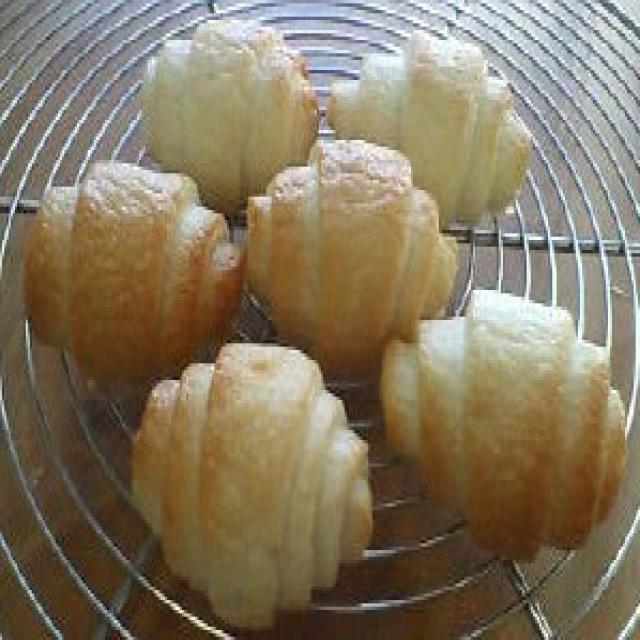面包点心: (15, 24, 621, 614)
